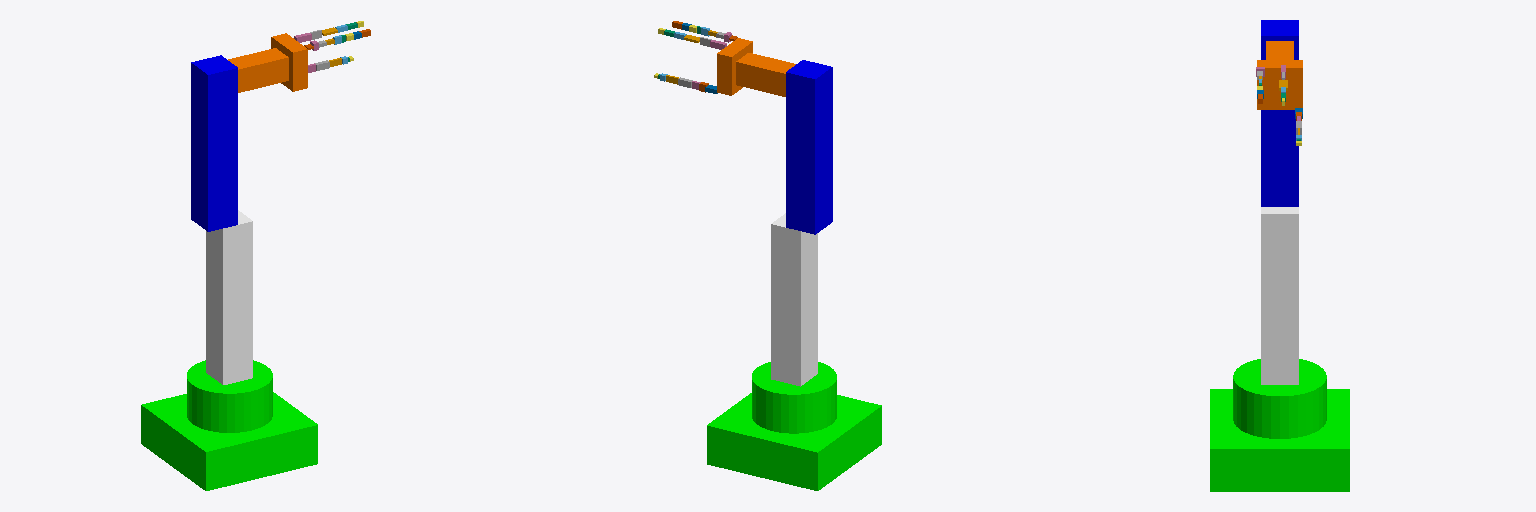
robot.urdf — robot:
<?xml version='1.0' encoding='utf-8'?>
<robot name="robot">
  <link name="base_link">
    <visual>
      <origin xyz="0 0 0.125" rpy="0 0 0" />
      <geometry>
        <box size="0.75 0.75 0.25" />
      </geometry>
      <material name="green" />
    </visual>
    <visual>
      <origin xyz="0 0 0.375" rpy="0 0 0" />
      <geometry>
        <cylinder length="0.25" radius="0.25" />
      </geometry>
      <material name="green">
        <color rgba="0 1 0 1" />
      </material>
    </visual>
    <collision>
      <geometry>
        <box size="0.75 0.75 0.5" />
      </geometry>
    </collision>
    <inertial>
      <mass value="0.5" />
      <inertia ixx="0.034" ixy="0.0" ixz="0.0" iyy="0.034" iyz="0.0" izz="0.034" />
    </inertial>
  </link>
  <link name="support_link">
    <visual>
      <origin xyz="0 0 0.5" rpy="0 0 0" />
      <geometry>
        <box size="0.2 0.2 1" />
      </geometry>
      <material name="white">
        <color rgba="1 1 1 1" />
      </material>
    </visual>
    <collision>
      <geometry>
        <box size="0.2 0.2 1" />
      </geometry>
    </collision>
    <inertial>
      <mass value="0.1" />
      <inertia ixx="0.01" ixy="0.0" ixz="0.0" iyy="0.01" iyz="0.0" izz="0.01" />
    </inertial>
  </link>
  <joint name="support_joint" type="continuous">
    <origin xyz="0 0 0.5" rpy="0 0 0" />
    <parent link="base_link" />
    <child link="support_link" />
    <axis xyz="0 0 1" />
  </joint>
  <link name="arm_link">
    <visual>
      <origin xyz="0 0 0.5" rpy="0 0 0" />
      <geometry>
        <box size="0.2 0.2 1" />
      </geometry>
      <material name="blue">
        <color rgba="0 0 1 1" />
      </material>
    </visual>
    <collision>
      <geometry>
        <box size="0.2 0.2 1" />
      </geometry>
    </collision>
    <inertial>
      <mass value="0.1" />
      <inertia ixx="0.01" ixy="0.0" ixz="0.0" iyy="0.01" iyz="0.0" izz="0.01" />
    </inertial>
  </link>
  <joint name="arm_joint" type="revolute">
    <origin xyz="-0.1 0 1" rpy="0 0 0" />
    <parent link="support_link" />
    <child link="arm_link" />
    <axis xyz="0 1 0" />
    <limit lower="-3.14" upper="3.14" effort="1.0" velocity="1.0" />
  </joint>
  <link name="wrist_link">
    <visual>
      <origin xyz="0 0 0.25" rpy="0 0 0" />
      <geometry>
        <box size="0.15 0.15 0.5" />
      </geometry>
      <material name="orange">
        <color rgba="1 0.5 0 1" />
      </material>
    </visual>
    <collision>
      <geometry>
        <box size="0.15 0.15 0.5" />
      </geometry>
    </collision>
    <inertial>
      <mass value="0.1" />
      <inertia ixx="0.01" ixy="0.0" ixz="0.0" iyy="0.01" iyz="0.0" izz="0.01" />
    </inertial>
  </link>
  <joint name="wrist_joint" type="fixed">
    <origin xyz="0 0 0.9" rpy="0 1.571 0" />
    <parent link="arm_link" />
    <child link="wrist_link" />
  </joint>
  <link name="palm_link">
    <visual>
      <origin xyz="0 0 0.05" rpy="0 0 0" />
      <geometry>
        <box size="0.25 0.25 0.1" />
      </geometry>
      <material name="orange" />
    </visual>
    <collision>
      <geometry>
        <box size="0.25 0.25 0.1" />
      </geometry>
    </collision>
    <inertial>
      <mass value="0.1" />
      <inertia ixx="0.01" ixy="0.0" ixz="0.0" iyy="0.01" iyz="0.0" izz="0.01" />
    </inertial>
  </link>
  <joint name="palm_joint" type="fixed">
    <origin xyz="0 0 0.45" rpy="0 0 0" />
    <parent link="wrist_link" />
    <child link="palm_link" />
  </joint>
  <link name="finger_link_0_0">
    <visual>
      <origin xyz="0 0 0.0195" rpy="0 0 0" />
      <geometry>
        <box size="0.013 0.044 0.039" />
      </geometry>
    </visual>
    <collision>
      <geometry>
        <box size="0.013 0.044 0.039" />
      </geometry>
    </collision>
    <inertial>
      <mass value="0.007" />
      <inertia ixx="0.0" iyy="0.0" izz="0.0" ixy="0" ixz="0" iyz="0" />
    </inertial>
  </link>
  <joint name="finger_joint_palm_link_to_finger_link_0_0" type="revolute">
    <origin xyz="-0.125 -0.104 0.1" rpy="0 0 0" />
    <parent link="palm_link" />
    <child link="finger_link_0_0" />
    <axis xyz="1.0 1.0 0.0" />
    <limit lower="-3.142" upper="3.142" effort="10" velocity="10" />
  </joint>
  <link name="finger_link_0_1">
    <visual>
      <origin xyz="0 0 0.0155" rpy="0 0 0" />
      <geometry>
        <box size="0.046 0.043 0.031" />
      </geometry>
    </visual>
    <collision>
      <geometry>
        <box size="0.046 0.043 0.031" />
      </geometry>
    </collision>
    <inertial>
      <mass value="0.018" />
      <inertia ixx="0.0" iyy="0.0" izz="0.0" ixy="0" ixz="0" iyz="0" />
    </inertial>
  </link>
  <joint name="finger_joint_finger_link_0_0_to_finger_link_0_1" type="revolute">
    <origin xyz="0.0 0.0 0.039" rpy="0 0 0" />
    <parent link="finger_link_0_0" />
    <child link="finger_link_0_1" />
    <axis xyz="1.0 0.0 0.0" />
    <limit lower="-3.142" upper="3.142" effort="10" velocity="10" />
  </joint>
  <link name="finger_link_0_2">
    <visual>
      <origin xyz="0 0 0.029" rpy="0 0 0" />
      <geometry>
        <box size="0.023 0.032 0.058" />
      </geometry>
    </visual>
    <collision>
      <geometry>
        <box size="0.023 0.032 0.058" />
      </geometry>
    </collision>
    <inertial>
      <mass value="0.013" />
      <inertia ixx="0.0" iyy="0.0" izz="0.0" ixy="0" ixz="0" iyz="0" />
    </inertial>
  </link>
  <joint name="finger_joint_finger_link_0_1_to_finger_link_0_2" type="revolute">
    <origin xyz="0.0 0.0 0.031" rpy="0 0 0" />
    <parent link="finger_link_0_1" />
    <child link="finger_link_0_2" />
    <axis xyz="0.0 1.0 0.0" />
    <limit lower="-3.142" upper="3.142" effort="10" velocity="10" />
  </joint>
  <link name="finger_link_0_3">
    <visual>
      <origin xyz="0 0 0.0275" rpy="0 0 0" />
      <geometry>
        <box size="0.025 0.021 0.055" />
      </geometry>
    </visual>
    <collision>
      <geometry>
        <box size="0.025 0.021 0.055" />
      </geometry>
    </collision>
    <inertial>
      <mass value="0.009" />
      <inertia ixx="0.0" iyy="0.0" izz="0.0" ixy="0" ixz="0" iyz="0" />
    </inertial>
  </link>
  <joint name="finger_joint_finger_link_0_2_to_finger_link_0_3" type="revolute">
    <origin xyz="0.0 0.0 0.058" rpy="0 0 0" />
    <parent link="finger_link_0_2" />
    <child link="finger_link_0_3" />
    <axis xyz="1.0 1.0 0.0" />
    <limit lower="-3.142" upper="3.142" effort="10" velocity="10" />
  </joint>
  <link name="finger_link_0_4">
    <visual>
      <origin xyz="0 0 0.0255" rpy="0 0 0" />
      <geometry>
        <box size="0.044 0.02 0.051" />
      </geometry>
    </visual>
    <collision>
      <geometry>
        <box size="0.044 0.02 0.051" />
      </geometry>
    </collision>
    <inertial>
      <mass value="0.013" />
      <inertia ixx="0.0" iyy="0.0" izz="0.0" ixy="0" ixz="0" iyz="0" />
    </inertial>
  </link>
  <joint name="finger_joint_finger_link_0_3_to_finger_link_0_4" type="revolute">
    <origin xyz="0.0 0.0 0.055" rpy="0 0 0" />
    <parent link="finger_link_0_3" />
    <child link="finger_link_0_4" />
    <axis xyz="0.0 1.0 0.0" />
    <limit lower="-3.142" upper="3.142" effort="10" velocity="10" />
  </joint>
  <link name="finger_link_0_5">
    <visual>
      <origin xyz="0 0 0.014" rpy="0 0 0" />
      <geometry>
        <box size="0.043 0.012 0.028" />
      </geometry>
    </visual>
    <collision>
      <geometry>
        <box size="0.043 0.012 0.028" />
      </geometry>
    </collision>
    <inertial>
      <mass value="0.004" />
      <inertia ixx="0.0" iyy="0.0" izz="0.0" ixy="0" ixz="0" iyz="0" />
    </inertial>
  </link>
  <joint name="finger_joint_finger_link_0_4_to_finger_link_0_5" type="revolute">
    <origin xyz="0.0 0.0 0.051" rpy="0 0 0" />
    <parent link="finger_link_0_4" />
    <child link="finger_link_0_5" />
    <axis xyz="0.0 1.0 0.0" />
    <limit lower="-3.142" upper="3.142" effort="10" velocity="10" />
  </joint>
  <link name="finger_link_0_6">
    <visual>
      <origin xyz="0 0 0.025" rpy="0 0 0" />
      <geometry>
        <box size="0.031 0.032 0.05" />
      </geometry>
    </visual>
    <collision>
      <geometry>
        <box size="0.031 0.032 0.05" />
      </geometry>
    </collision>
    <inertial>
      <mass value="0.015" />
      <inertia ixx="0.0" iyy="0.0" izz="0.0" ixy="0" ixz="0" iyz="0" />
    </inertial>
  </link>
  <joint name="finger_joint_finger_link_0_5_to_finger_link_0_6" type="revolute">
    <origin xyz="0.0 0.0 0.028" rpy="0 0 0" />
    <parent link="finger_link_0_5" />
    <child link="finger_link_0_6" />
    <axis xyz="1.0 1.0 0.0" />
    <limit lower="-3.142" upper="3.142" effort="10" velocity="10" />
  </joint>
  <link name="finger_link_0_7">
    <visual>
      <origin xyz="0 0 0.0235" rpy="0 0 0" />
      <geometry>
        <box size="0.032 0.033 0.047" />
      </geometry>
    </visual>
    <collision>
      <geometry>
        <box size="0.032 0.033 0.047" />
      </geometry>
    </collision>
    <inertial>
      <mass value="0.015" />
      <inertia ixx="0.0" iyy="0.0" izz="0.0" ixy="0" ixz="0" iyz="0" />
    </inertial>
  </link>
  <joint name="finger_joint_finger_link_0_6_to_finger_link_0_7" type="revolute">
    <origin xyz="0.0 0.0 0.05" rpy="0 0 0" />
    <parent link="finger_link_0_6" />
    <child link="finger_link_0_7" />
    <axis xyz="1.0 0.0 0.0" />
    <limit lower="-3.142" upper="3.142" effort="10" velocity="10" />
  </joint>
  <link name="finger_link_0_8">
    <visual>
      <origin xyz="0 0 0.0325" rpy="0 0 0" />
      <geometry>
        <box size="0.033 0.027 0.065" />
      </geometry>
    </visual>
    <collision>
      <geometry>
        <box size="0.033 0.027 0.065" />
      </geometry>
    </collision>
    <inertial>
      <mass value="0.017" />
      <inertia ixx="0.0" iyy="0.0" izz="0.0" ixy="0" ixz="0" iyz="0" />
    </inertial>
  </link>
  <joint name="finger_joint_finger_link_0_7_to_finger_link_0_8" type="revolute">
    <origin xyz="0.0 0.0 0.047" rpy="0 0 0" />
    <parent link="finger_link_0_7" />
    <child link="finger_link_0_8" />
    <axis xyz="0.0 1.0 0.0" />
    <limit lower="-3.142" upper="3.142" effort="10" velocity="10" />
  </joint>
  <link name="finger_link_1_0">
    <visual>
      <origin xyz="0 0 0.0495" rpy="0 0 0" />
      <geometry>
        <box size="0.038 0.029 0.099" />
      </geometry>
    </visual>
    <collision>
      <geometry>
        <box size="0.038 0.029 0.099" />
      </geometry>
    </collision>
    <inertial>
      <mass value="0.033" />
      <inertia ixx="0.0" iyy="0.0" izz="0.0" ixy="0" ixz="0" iyz="0" />
    </inertial>
  </link>
  <joint name="finger_joint_palm_link_to_finger_link_1_0" type="revolute">
    <origin xyz="-0.125 0.019 0.1" rpy="0 0 0" />
    <parent link="palm_link" />
    <child link="finger_link_1_0" />
    <axis xyz="1.0 0.0 0.0" />
    <limit lower="-3.142" upper="3.142" effort="10" velocity="10" />
  </joint>
  <link name="finger_link_1_1">
    <visual>
      <origin xyz="0 0 0.0375" rpy="0 0 0" />
      <geometry>
        <box size="0.047 0.012 0.075" />
      </geometry>
    </visual>
    <collision>
      <geometry>
        <box size="0.047 0.012 0.075" />
      </geometry>
    </collision>
    <inertial>
      <mass value="0.013" />
      <inertia ixx="0.0" iyy="0.0" izz="0.0" ixy="0" ixz="0" iyz="0" />
    </inertial>
  </link>
  <joint name="finger_joint_finger_link_1_0_to_finger_link_1_1" type="revolute">
    <origin xyz="0.0 0.0 0.099" rpy="0 0 0" />
    <parent link="finger_link_1_0" />
    <child link="finger_link_1_1" />
    <axis xyz="1.0 1.0 0.0" />
    <limit lower="-3.142" upper="3.142" effort="10" velocity="10" />
  </joint>
  <link name="finger_link_1_2">
    <visual>
      <origin xyz="0 0 0.0485" rpy="0 0 0" />
      <geometry>
        <box size="0.015 0.049 0.097" />
      </geometry>
    </visual>
    <collision>
      <geometry>
        <box size="0.015 0.049 0.097" />
      </geometry>
    </collision>
    <inertial>
      <mass value="0.021" />
      <inertia ixx="0.0" iyy="0.0" izz="0.0" ixy="0" ixz="0" iyz="0" />
    </inertial>
  </link>
  <joint name="finger_joint_finger_link_1_1_to_finger_link_1_2" type="revolute">
    <origin xyz="0.0 0.0 0.075" rpy="0 0 0" />
    <parent link="finger_link_1_1" />
    <child link="finger_link_1_2" />
    <axis xyz="0.0 1.0 0.0" />
    <limit lower="-3.142" upper="3.142" effort="10" velocity="10" />
  </joint>
  <link name="finger_link_1_3">
    <visual>
      <origin xyz="0 0 0.035" rpy="0 0 0" />
      <geometry>
        <box size="0.03 0.025 0.07" />
      </geometry>
    </visual>
    <collision>
      <geometry>
        <box size="0.03 0.025 0.07" />
      </geometry>
    </collision>
    <inertial>
      <mass value="0.016" />
      <inertia ixx="0.0" iyy="0.0" izz="0.0" ixy="0" ixz="0" iyz="0" />
    </inertial>
  </link>
  <joint name="finger_joint_finger_link_1_2_to_finger_link_1_3" type="revolute">
    <origin xyz="0.0 0.0 0.097" rpy="0 0 0" />
    <parent link="finger_link_1_2" />
    <child link="finger_link_1_3" />
    <axis xyz="0.0 1.0 0.0" />
    <limit lower="-3.142" upper="3.142" effort="10" velocity="10" />
  </joint>
  <link name="finger_link_1_4">
    <visual>
      <origin xyz="0 0 0.0335" rpy="0 0 0" />
      <geometry>
        <box size="0.024 0.029 0.067" />
      </geometry>
    </visual>
    <collision>
      <geometry>
        <box size="0.024 0.029 0.067" />
      </geometry>
    </collision>
    <inertial>
      <mass value="0.014" />
      <inertia ixx="0.0" iyy="0.0" izz="0.0" ixy="0" ixz="0" iyz="0" />
    </inertial>
  </link>
  <joint name="finger_joint_finger_link_1_3_to_finger_link_1_4" type="revolute">
    <origin xyz="0.0 0.0 0.07" rpy="0 0 0" />
    <parent link="finger_link_1_3" />
    <child link="finger_link_1_4" />
    <axis xyz="1.0 1.0 0.0" />
    <limit lower="-3.142" upper="3.142" effort="10" velocity="10" />
  </joint>
  <link name="finger_link_1_5">
    <visual>
      <origin xyz="0 0 0.021" rpy="0 0 0" />
      <geometry>
        <box size="0.03 0.02 0.042" />
      </geometry>
    </visual>
    <collision>
      <geometry>
        <box size="0.03 0.02 0.042" />
      </geometry>
    </collision>
    <inertial>
      <mass value="0.008" />
      <inertia ixx="0.0" iyy="0.0" izz="0.0" ixy="0" ixz="0" iyz="0" />
    </inertial>
  </link>
  <joint name="finger_joint_finger_link_1_4_to_finger_link_1_5" type="revolute">
    <origin xyz="0.0 0.0 0.067" rpy="0 0 0" />
    <parent link="finger_link_1_4" />
    <child link="finger_link_1_5" />
    <axis xyz="1.0 1.0 0.0" />
    <limit lower="-3.142" upper="3.142" effort="10" velocity="10" />
  </joint>
  <link name="finger_link_2_0">
    <visual>
      <origin xyz="0 0 0.039" rpy="0 0 0" />
      <geometry>
        <box size="0.028 0.046 0.078" />
      </geometry>
    </visual>
    <collision>
      <geometry>
        <box size="0.028 0.046 0.078" />
      </geometry>
    </collision>
    <inertial>
      <mass value="0.03" />
      <inertia ixx="0.0" iyy="0.0" izz="0.0" ixy="0" ixz="0" iyz="0" />
    </inertial>
  </link>
  <joint name="finger_joint_palm_link_to_finger_link_2_0" type="revolute">
    <origin xyz="0.125 0.101 0.1" rpy="0 0 0" />
    <parent link="palm_link" />
    <child link="finger_link_2_0" />
    <axis xyz="0.0 1.0 0.0" />
    <limit lower="-3.142" upper="3.142" effort="10" velocity="10" />
  </joint>
  <link name="finger_link_2_1">
    <visual>
      <origin xyz="0 0 0.022" rpy="0 0 0" />
      <geometry>
        <box size="0.048 0.03 0.044" />
      </geometry>
    </visual>
    <collision>
      <geometry>
        <box size="0.048 0.03 0.044" />
      </geometry>
    </collision>
    <inertial>
      <mass value="0.019" />
      <inertia ixx="0.0" iyy="0.0" izz="0.0" ixy="0" ixz="0" iyz="0" />
    </inertial>
  </link>
  <joint name="finger_joint_finger_link_2_0_to_finger_link_2_1" type="revolute">
    <origin xyz="0.0 0.0 0.078" rpy="0 0 0" />
    <parent link="finger_link_2_0" />
    <child link="finger_link_2_1" />
    <axis xyz="1.0 1.0 0.0" />
    <limit lower="-3.142" upper="3.142" effort="10" velocity="10" />
  </joint>
  <link name="finger_link_2_2">
    <visual>
      <origin xyz="0 0 0.0285" rpy="0 0 0" />
      <geometry>
        <box size="0.044 0.018 0.057" />
      </geometry>
    </visual>
    <collision>
      <geometry>
        <box size="0.044 0.018 0.057" />
      </geometry>
    </collision>
    <inertial>
      <mass value="0.014" />
      <inertia ixx="0.0" iyy="0.0" izz="0.0" ixy="0" ixz="0" iyz="0" />
    </inertial>
  </link>
  <joint name="finger_joint_finger_link_2_1_to_finger_link_2_2" type="revolute">
    <origin xyz="0.0 0.0 0.044" rpy="0 0 0" />
    <parent link="finger_link_2_1" />
    <child link="finger_link_2_2" />
    <axis xyz="0.0 1.0 0.0" />
    <limit lower="-3.142" upper="3.142" effort="10" velocity="10" />
  </joint>
  <link name="finger_link_2_3">
    <visual>
      <origin xyz="0 0 0.044" rpy="0 0 0" />
      <geometry>
        <box size="0.04 0.028 0.088" />
      </geometry>
    </visual>
    <collision>
      <geometry>
        <box size="0.04 0.028 0.088" />
      </geometry>
    </collision>
    <inertial>
      <mass value="0.03" />
      <inertia ixx="0.0" iyy="0.0" izz="0.0" ixy="0" ixz="0" iyz="0" />
    </inertial>
  </link>
  <joint name="finger_joint_finger_link_2_2_to_finger_link_2_3" type="revolute">
    <origin xyz="0.0 0.0 0.057" rpy="0 0 0" />
    <parent link="finger_link_2_2" />
    <child link="finger_link_2_3" />
    <axis xyz="0.0 1.0 0.0" />
    <limit lower="-3.142" upper="3.142" effort="10" velocity="10" />
  </joint>
  <link name="finger_link_2_4">
    <visual>
      <origin xyz="0 0 0.0435" rpy="0 0 0" />
      <geometry>
        <box size="0.039 0.015 0.087" />
      </geometry>
    </visual>
    <collision>
      <geometry>
        <box size="0.039 0.015 0.087" />
      </geometry>
    </collision>
    <inertial>
      <mass value="0.015" />
      <inertia ixx="0.0" iyy="0.0" izz="0.0" ixy="0" ixz="0" iyz="0" />
    </inertial>
  </link>
  <joint name="finger_joint_finger_link_2_3_to_finger_link_2_4" type="revolute">
    <origin xyz="0.0 0.0 0.088" rpy="0 0 0" />
    <parent link="finger_link_2_3" />
    <child link="finger_link_2_4" />
    <axis xyz="0.0 1.0 0.0" />
    <limit lower="-3.142" upper="3.142" effort="10" velocity="10" />
  </joint>
  <link name="finger_link_2_5">
    <visual>
      <origin xyz="0 0 0.018" rpy="0 0 0" />
      <geometry>
        <box size="0.035 0.029 0.036" />
      </geometry>
    </visual>
    <collision>
      <geometry>
        <box size="0.035 0.029 0.036" />
      </geometry>
    </collision>
    <inertial>
      <mass value="0.011" />
      <inertia ixx="0.0" iyy="0.0" izz="0.0" ixy="0" ixz="0" iyz="0" />
    </inertial>
  </link>
  <joint name="finger_joint_finger_link_2_4_to_finger_link_2_5" type="revolute">
    <origin xyz="0.0 0.0 0.087" rpy="0 0 0" />
    <parent link="finger_link_2_4" />
    <child link="finger_link_2_5" />
    <axis xyz="1.0 1.0 0.0" />
    <limit lower="-3.142" upper="3.142" effort="10" velocity="10" />
  </joint>
  <link name="finger_link_2_6">
    <visual>
      <origin xyz="0 0 0.006" rpy="0 0 0" />
      <geometry>
        <box size="0.024 0.024 0.012" />
      </geometry>
    </visual>
    <collision>
      <geometry>
        <box size="0.024 0.024 0.012" />
      </geometry>
    </collision>
    <inertial>
      <mass value="0.002" />
      <inertia ixx="0.0" iyy="0.0" izz="0.0" ixy="0" ixz="0" iyz="0" />
    </inertial>
  </link>
  <joint name="finger_joint_finger_link_2_5_to_finger_link_2_6" type="revolute">
    <origin xyz="0.0 0.0 0.036" rpy="0 0 0" />
    <parent link="finger_link_2_5" />
    <child link="finger_link_2_6" />
    <axis xyz="0.0 1.0 0.0" />
    <limit lower="-3.142" upper="3.142" effort="10" velocity="10" />
  </joint>
  <link name="finger_link_2_7">
    <visual>
      <origin xyz="0 0 0.013" rpy="0 0 0" />
      <geometry>
        <box size="0.016 0.035 0.026" />
      </geometry>
    </visual>
    <collision>
      <geometry>
        <box size="0.016 0.035 0.026" />
      </geometry>
    </collision>
    <inertial>
      <mass value="0.004" />
      <inertia ixx="0.0" iyy="0.0" izz="0.0" ixy="0" ixz="0" iyz="0" />
    </inertial>
  </link>
  <joint name="finger_joint_finger_link_2_6_to_finger_link_2_7" type="revolute">
    <origin xyz="0.0 0.0 0.012" rpy="0 0 0" />
    <parent link="finger_link_2_6" />
    <child link="finger_link_2_7" />
    <axis xyz="0.0 1.0 0.0" />
    <limit lower="-3.142" upper="3.142" effort="10" velocity="10" />
  </joint>
</robot>

--- Facts derived from the render (not from the file) ---
3 views of the same robot in one strip: view 1: azimuth 30°, elevation 25°; view 2: azimuth 150°, elevation 25°; view 3: azimuth 270°, elevation 25° (orthographic).
Model robot with 28 links and 27 joints (24 revolute, 1 continuous, 2 fixed), rooted at base_link, posed all joints at 0.
Links seen in each view (by area): view 1: base_link, arm_link, support_link, wrist_link, palm_link; view 2: base_link, arm_link, support_link, wrist_link, palm_link; view 3: base_link, support_link, arm_link, palm_link, wrist_link.
Link boxes in pixels (x1=…): base_link: x1=141, y1=360, x2=317, y2=490; arm_link: x1=191, y1=55, x2=237, y2=231; support_link: x1=206, y1=210, x2=252, y2=384; wrist_link: x1=228, y1=48, x2=288, y2=92; palm_link: x1=271, y1=33, x2=307, y2=91; base_link: x1=707, y1=362, x2=881, y2=490; arm_link: x1=786, y1=60, x2=832, y2=234; support_link: x1=771, y1=213, x2=817, y2=386; wrist_link: x1=736, y1=53, x2=795, y2=96; palm_link: x1=717, y1=38, x2=752, y2=95; base_link: x1=1210, y1=359, x2=1349, y2=491; support_link: x1=1261, y1=207, x2=1298, y2=384; arm_link: x1=1261, y1=20, x2=1298, y2=206; palm_link: x1=1257, y1=60, x2=1302, y2=109; wrist_link: x1=1266, y1=41, x2=1293, y2=59.
Bounding box of the posed robot: 1.27 × 0.75 × 2.55 m (x, y, z).
Geometry: primitives only (box / cylinder / sphere), no mesh files.